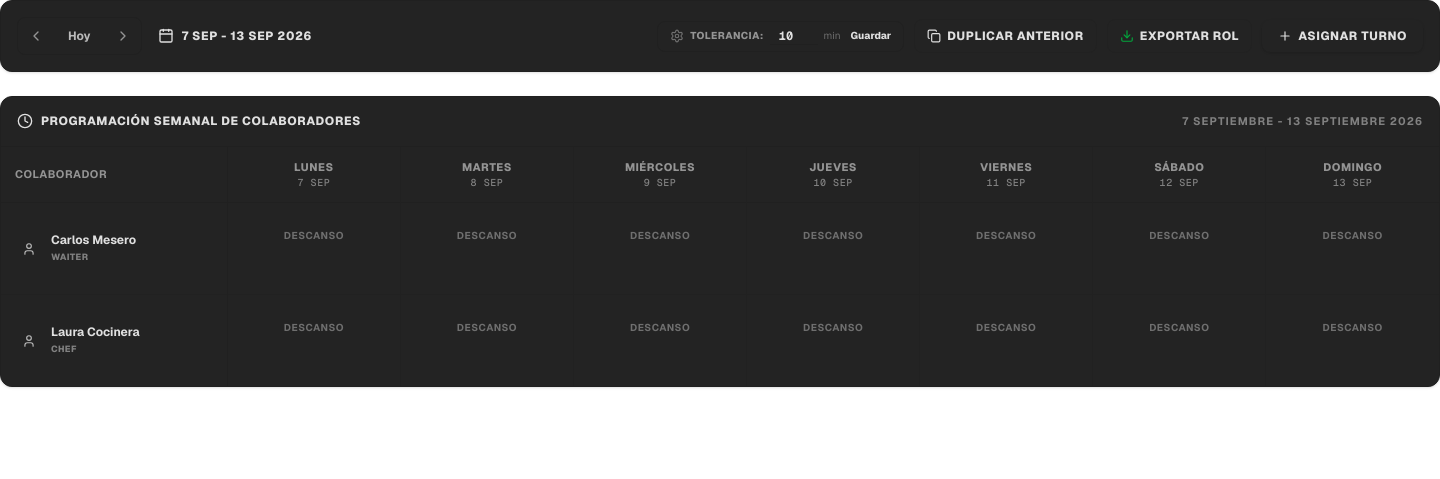
it: WeeklyShiftPlanner Component › handles tolerance save error
Expected: the text "Carlos Mesero" is shown, [51,233,136,248]
Click the button "Guardar". click: [871, 36]
box: [851,29,891,43]
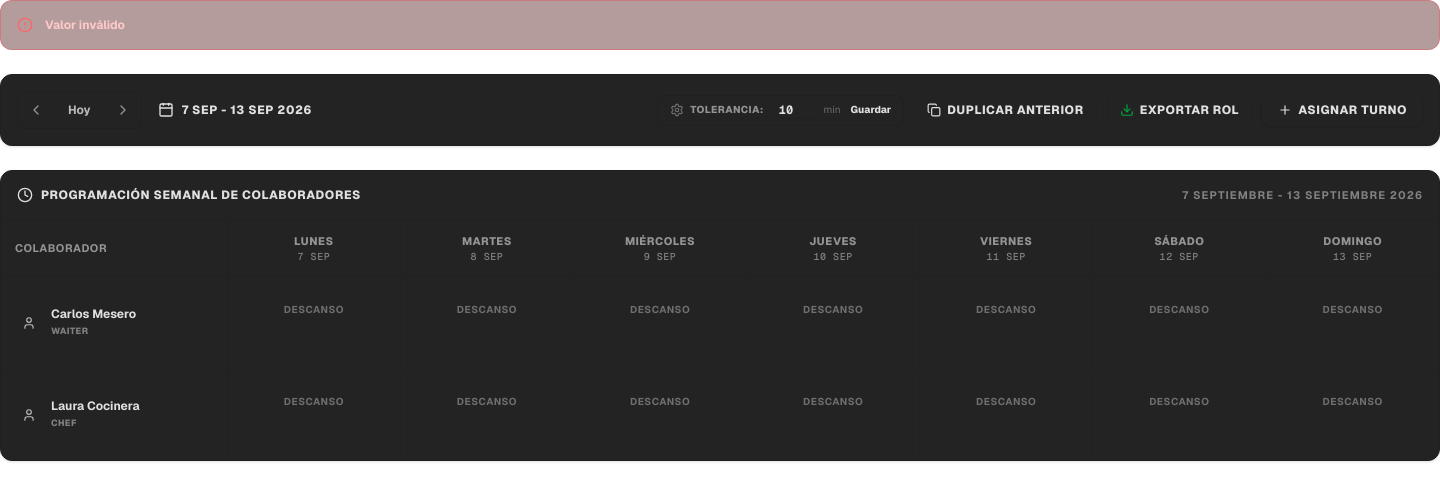
Expected: the text "Valor inválido" is shown, [45,17,125,33]
